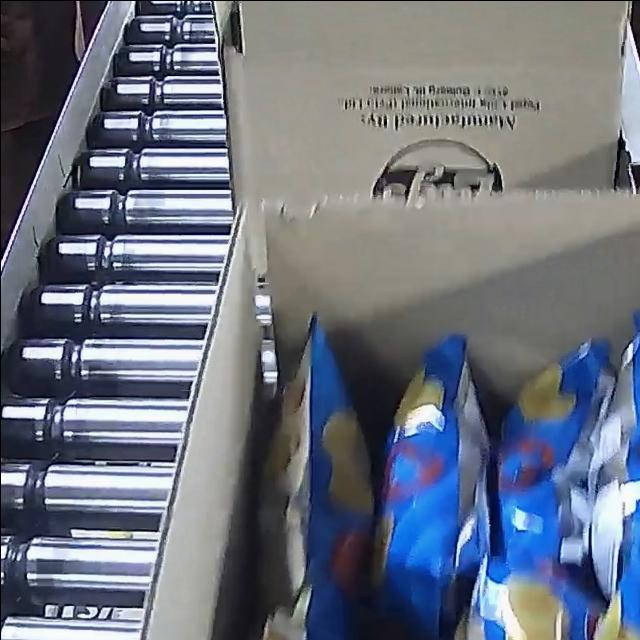paprika: (252, 305, 640, 640)
